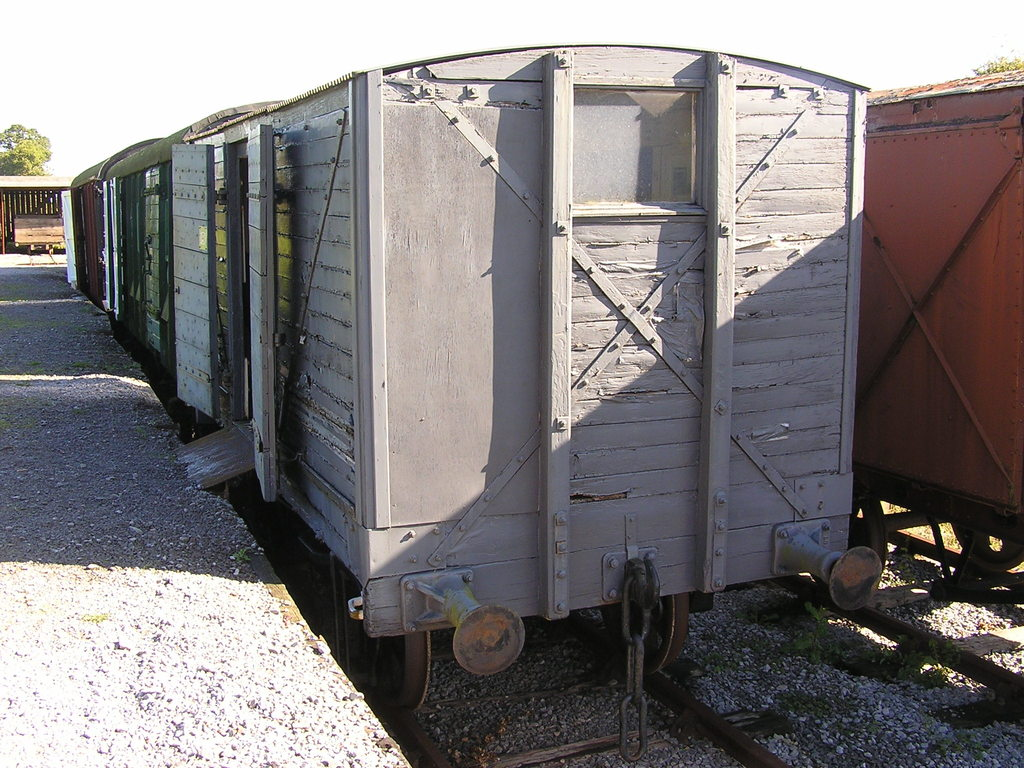Tree: (0, 124, 54, 182), (972, 55, 1024, 76)
